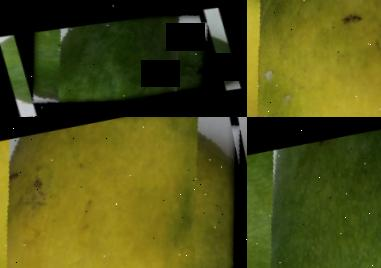PartiallyRipe: (0, 117, 247, 268), (247, 0, 381, 117)
Unripe: (12, 4, 226, 117), (247, 117, 381, 268)
